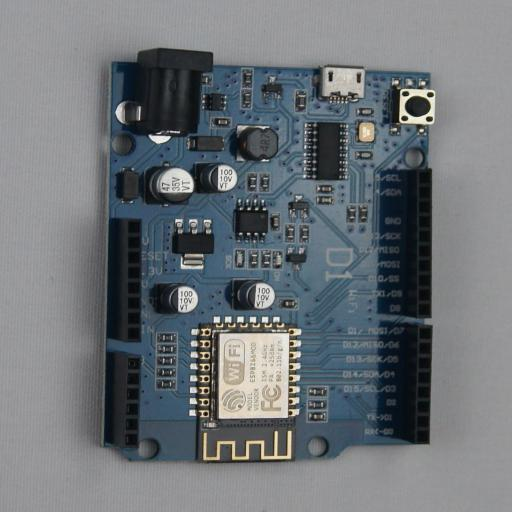Arduino Uno WiFi Shield: (84, 48, 433, 464)
